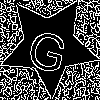G: (24, 20, 72, 75)
